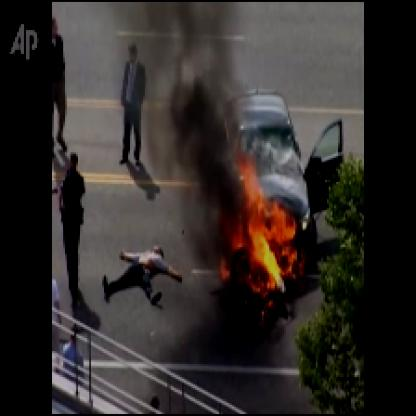Fire: (219, 146, 301, 318)
Smoke: (141, 2, 240, 265)
